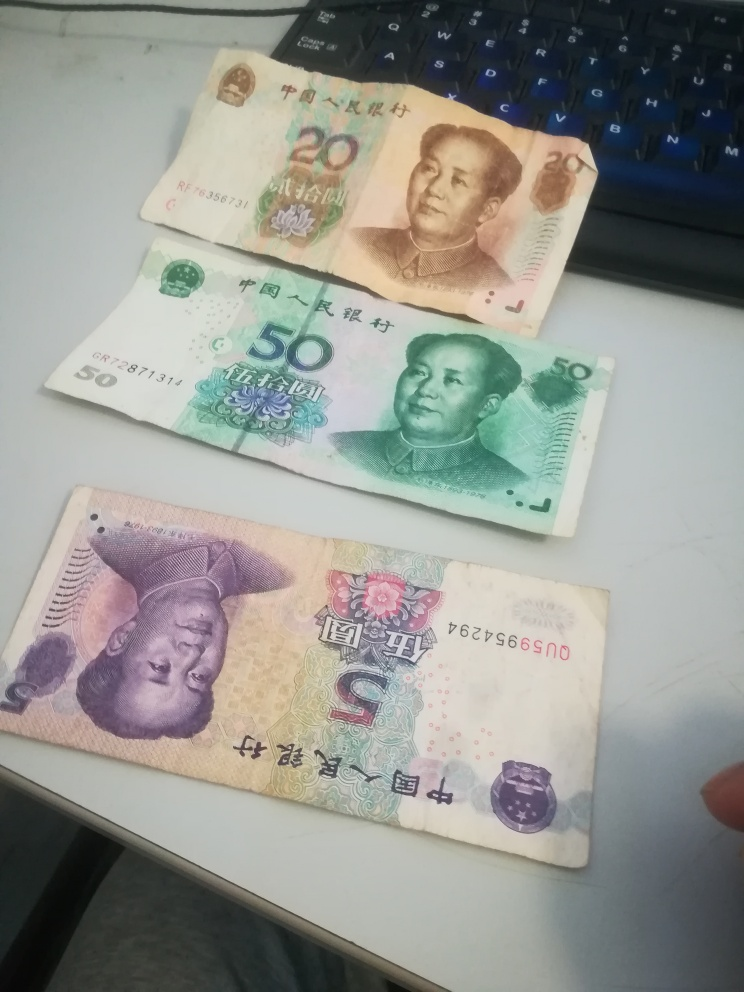rmb: (12, 487, 613, 867), (37, 236, 608, 541), (139, 41, 612, 338)
